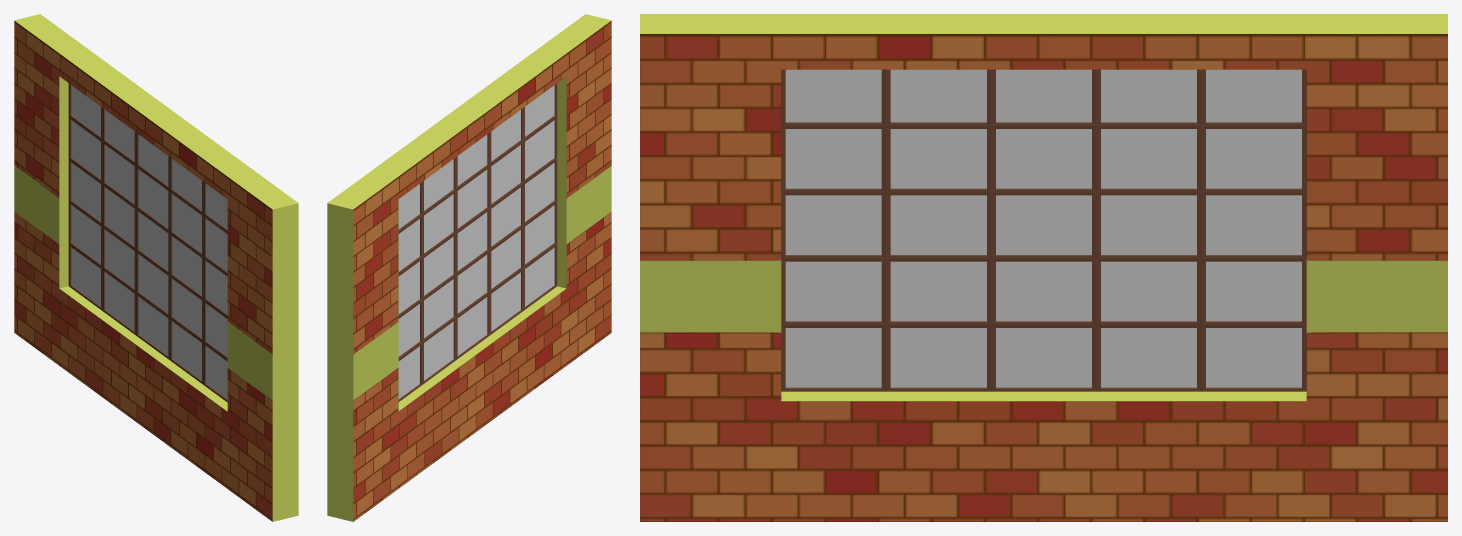
File: zid i prozor.fbx
3 views of the same model, side by side, from view 1: azimuth 30°, elevation 25°; view 2: azimuth 150°, elevation 25°; view 3: azimuth 270°, elevation 25° (orthographic). The views are drawn at different scales.
Parts seen in each view (by area): view 1: Cube.024, Cube.027, Cube.026; view 2: Cube.024, Cube.027, Cube.026; view 3: Cube.024, Cube.027, Cube.026.
Part boxes in pixels (x1,y1,x2,y2): Cube.024: (14, 14, 298, 521); Cube.027: (71, 85, 240, 399); Cube.026: (68, 83, 227, 402); Cube.024: (327, 14, 611, 521); Cube.027: (385, 85, 554, 398); Cube.026: (398, 83, 557, 401); Cube.024: (640, 14, 1447, 521); Cube.027: (774, 69, 1312, 387); Cube.026: (781, 69, 1306, 391).
Size of the model in its own units: 35 by 400 by 600.
Materials: 4 (1 with a texture image).
